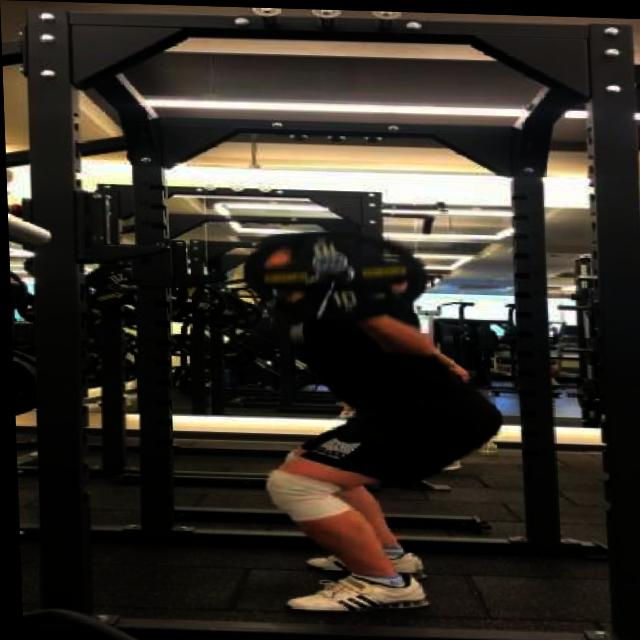barbell: (234, 224, 429, 328)
